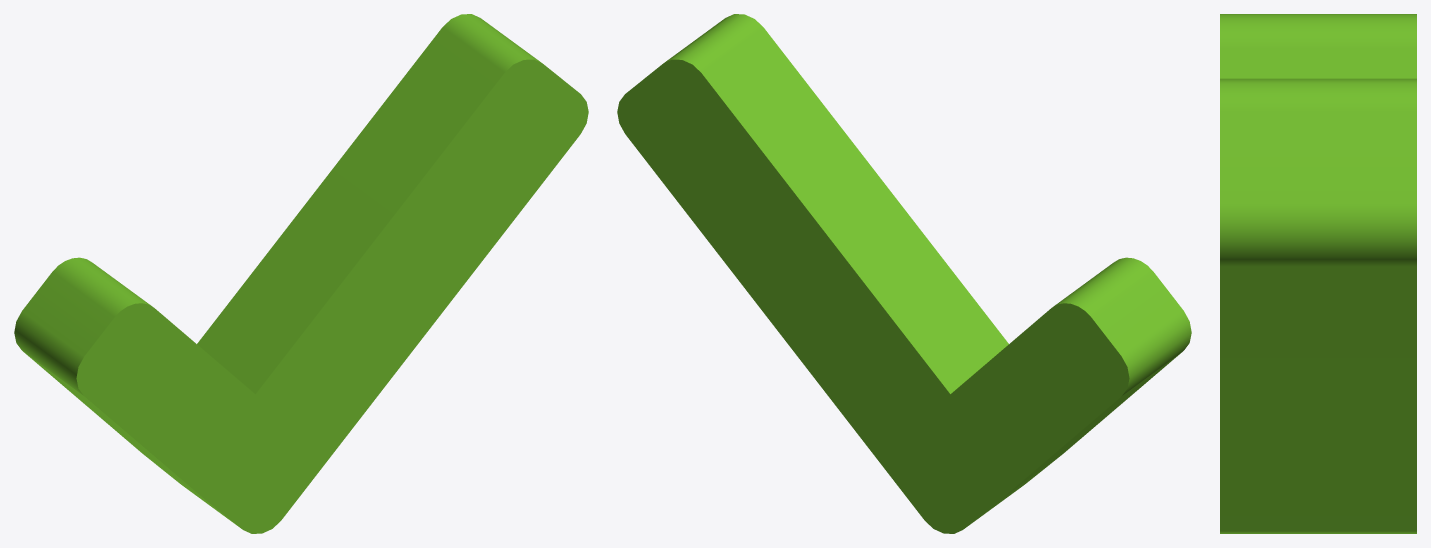
The model's file is ceklis.fbx.
3 renders of one model, left to right at view 1: azimuth 30°, elevation 25°; view 2: azimuth 150°, elevation 25°; view 3: azimuth 270°, elevation 25°, orthographic. The views are drawn at different scales.
Visible parts, largest first — view 1: pCube1; view 2: pCube1; view 3: pCube1.
Part boxes in pixels (left/top/right/bottom): pCube1: left=14, top=14, right=588, bottom=533; pCube1: left=617, top=14, right=1191, bottom=533; pCube1: left=1220, top=14, right=1416, bottom=533.
Bounding box in the file's own units: 1.54 × 1.17 × 0.3233.
